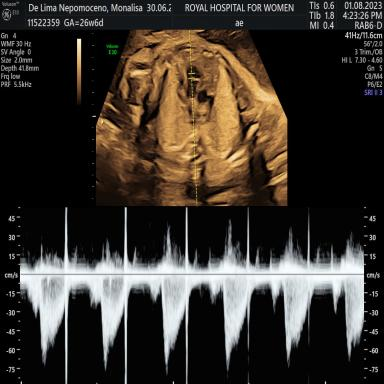Ultrasound-Waves: (28, 207, 363, 384)
